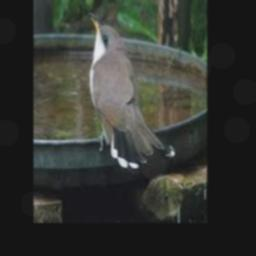Cuckoo: (87, 12, 174, 167)
